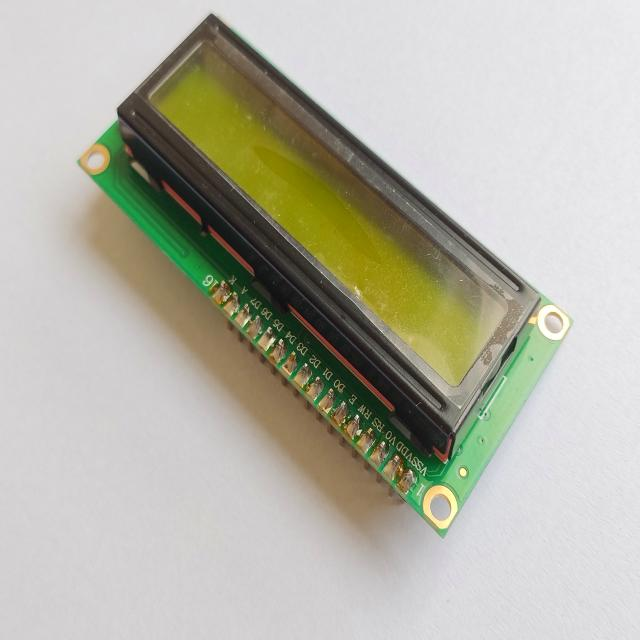lcd: (74, 9, 593, 554)
